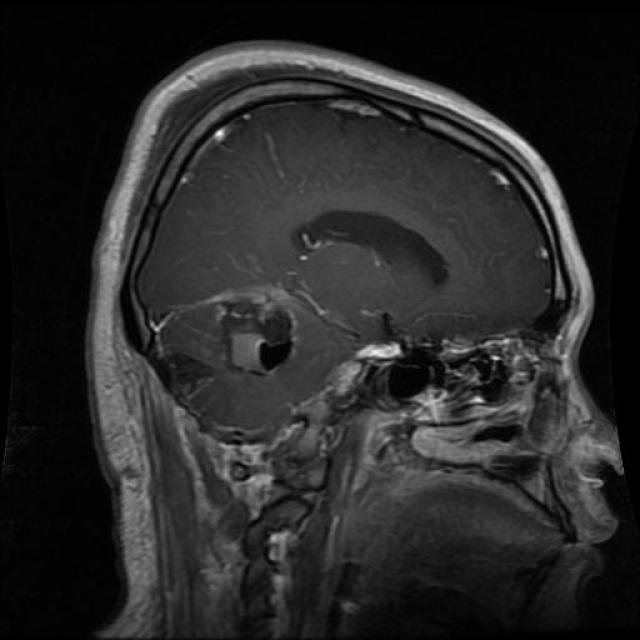glioma: (152, 288, 310, 398)
